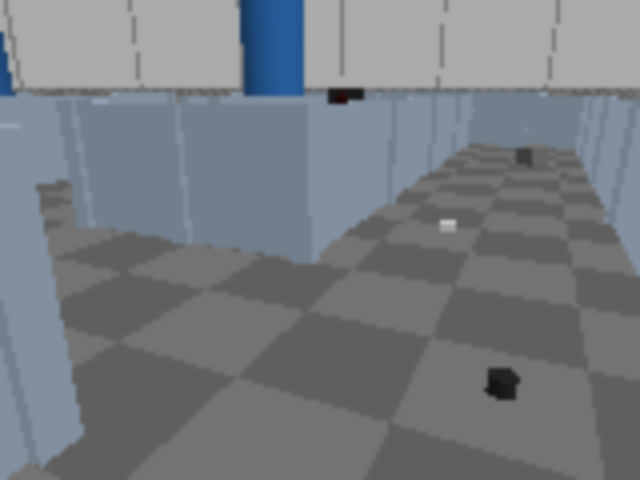person: (0, 0, 22, 184)
puck: (489, 367, 516, 399)
